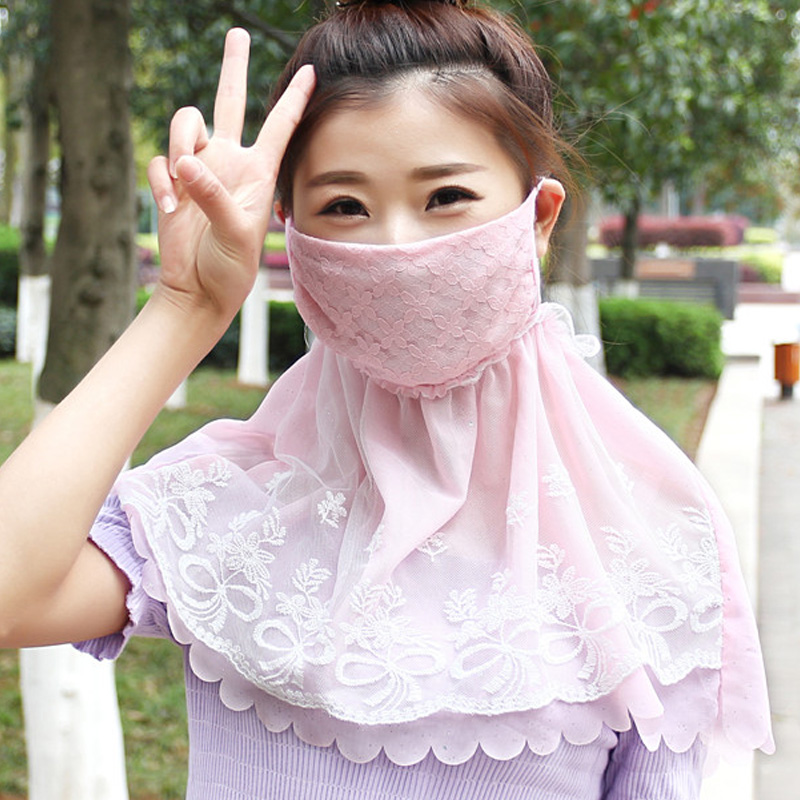face_mask: (287, 88, 525, 377)
